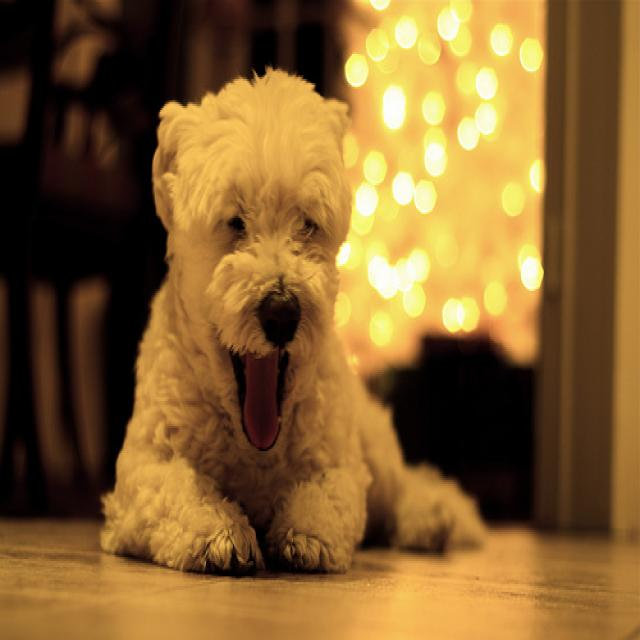dog-havanese: (95, 73, 484, 588)
